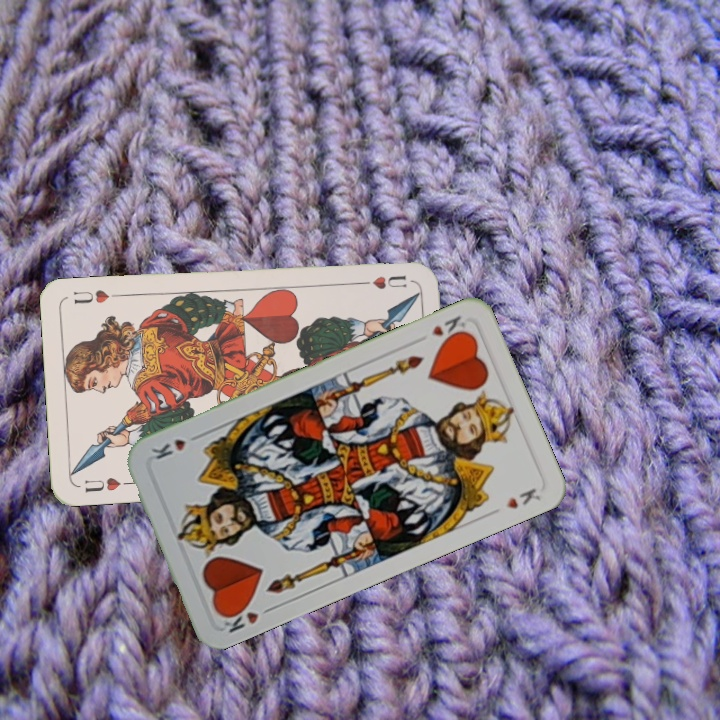HK: (216, 600, 262, 636), (427, 311, 470, 346)
HU: (80, 473, 134, 495), (354, 271, 409, 291)
